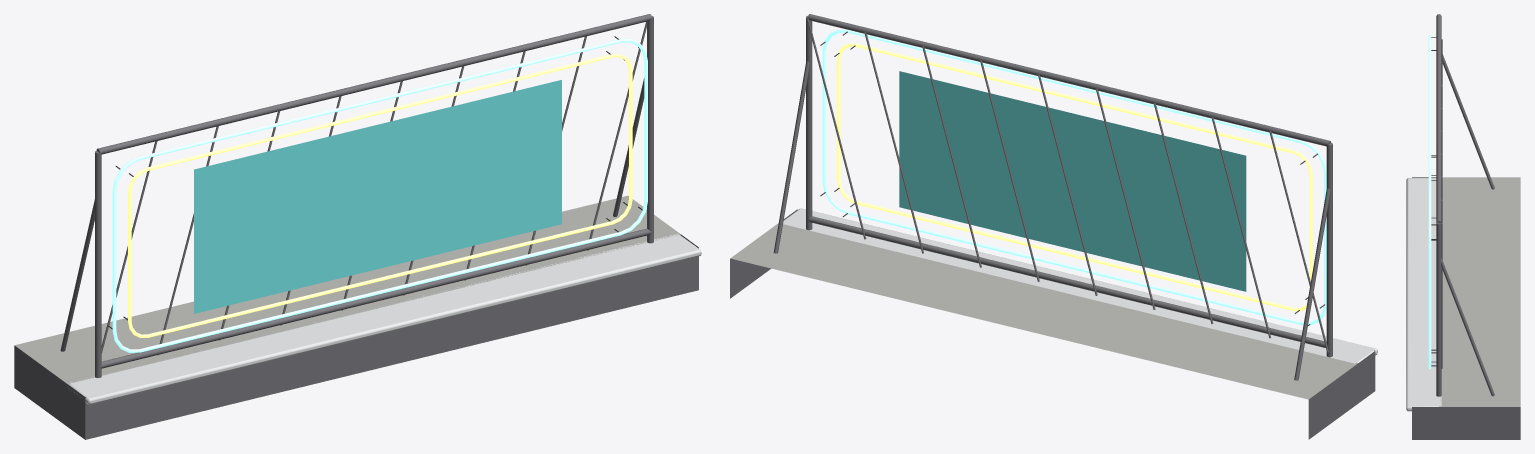
The model's file is retro_cap_neon_6.glb.
3 renders of one model, left to right at view 1: azimuth 30°, elevation 25°; view 2: azimuth 150°, elevation 25°; view 3: azimuth 270°, elevation 25°, orthographic. The views are drawn at different scales.
Parts seen in each view (by area): view 1: retro_cap_neon_6; view 2: retro_cap_neon_6; view 3: retro_cap_neon_6.
Boxes of the visible parts, left/top/right/bottom form: retro_cap_neon_6: left=14, top=14, right=701, bottom=439; retro_cap_neon_6: left=730, top=14, right=1377, bottom=439; retro_cap_neon_6: left=1406, top=14, right=1520, bottom=439.
Size of the model in its own units: 6 by 2.53 by 1.26.
